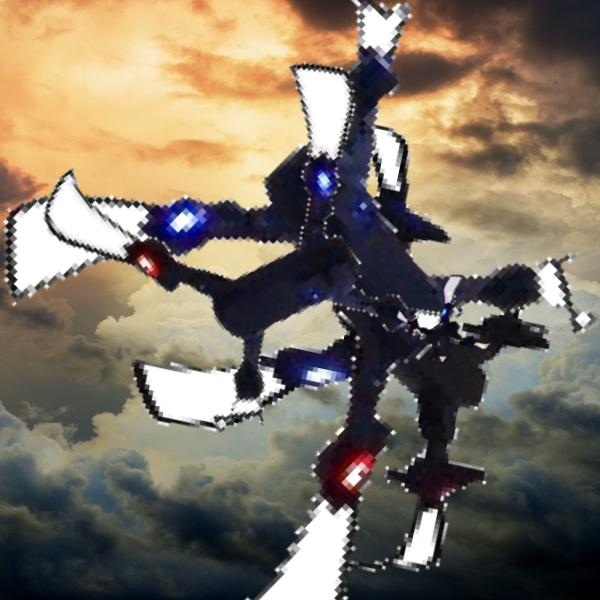drone: (16, 11, 600, 595), (95, 96, 569, 570), (75, 65, 449, 439), (401, 267, 506, 372)
